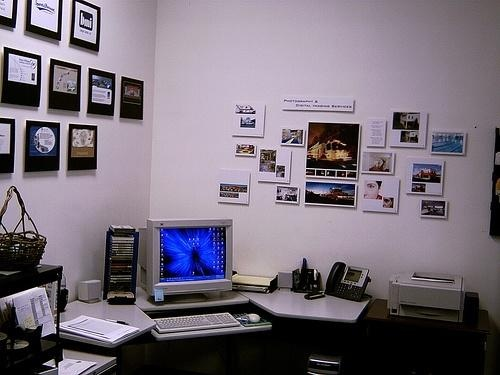tvmonitor: (138, 220, 233, 300)
